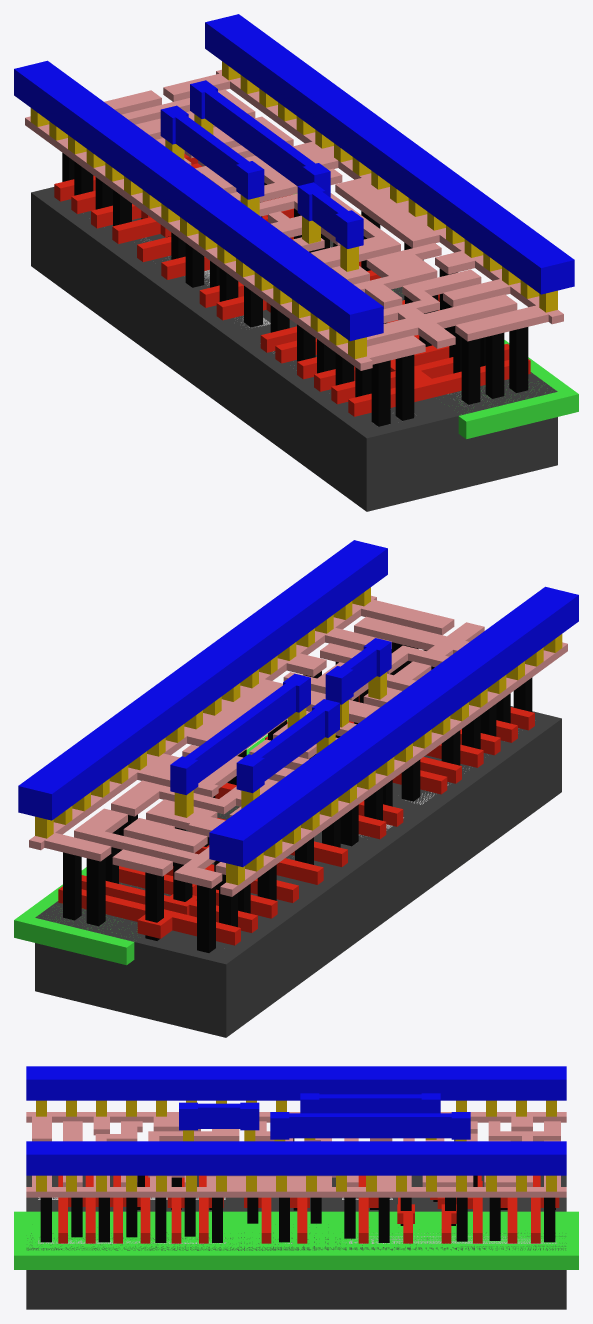
The model's file is sky130_fd_sc_hd__sdlclkp_4.obj.
3 renders of one model, top to bottom at view 1: azimuth 30°, elevation 25°; view 2: azimuth 150°, elevation 25°; view 3: azimuth 270°, elevation 25°, orthographic. The views are drawn at different scales.
Visible parts, largest first — view 1: metal1, subs, li, licon, poly, mcon, nwell; view 2: metal1, subs, li, licon, poly, mcon, nwell; view 3: metal1, subs, nwell, li, poly, licon, mcon, tap.
Part boxes in pixels (box(x1,y1,x2,y2)): metal1: box(14, 14, 574, 341); subs: box(31, 187, 557, 511); li: box(25, 69, 563, 370); licon: box(62, 153, 528, 426); poly: box(54, 153, 530, 416); mcon: box(30, 61, 557, 359); nwell: box(293, 193, 578, 439); metal1: box(18, 540, 578, 867); subs: box(35, 706, 561, 1037); li: box(29, 595, 567, 896); licon: box(63, 642, 532, 952); poly: box(58, 695, 534, 945); mcon: box(35, 587, 562, 885); nwell: box(14, 720, 287, 965); metal1: box(26, 1066, 566, 1175); subs: box(26, 1175, 566, 1309); nwell: box(14, 1211, 578, 1269); li: box(26, 1112, 566, 1197); poly: box(58, 1175, 559, 1243); licon: box(40, 1138, 555, 1242); mcon: box(36, 1100, 556, 1191); tap: box(38, 1233, 556, 1243).
Size of the model in its own units: 3.2 by 2.74 by 8.66.
